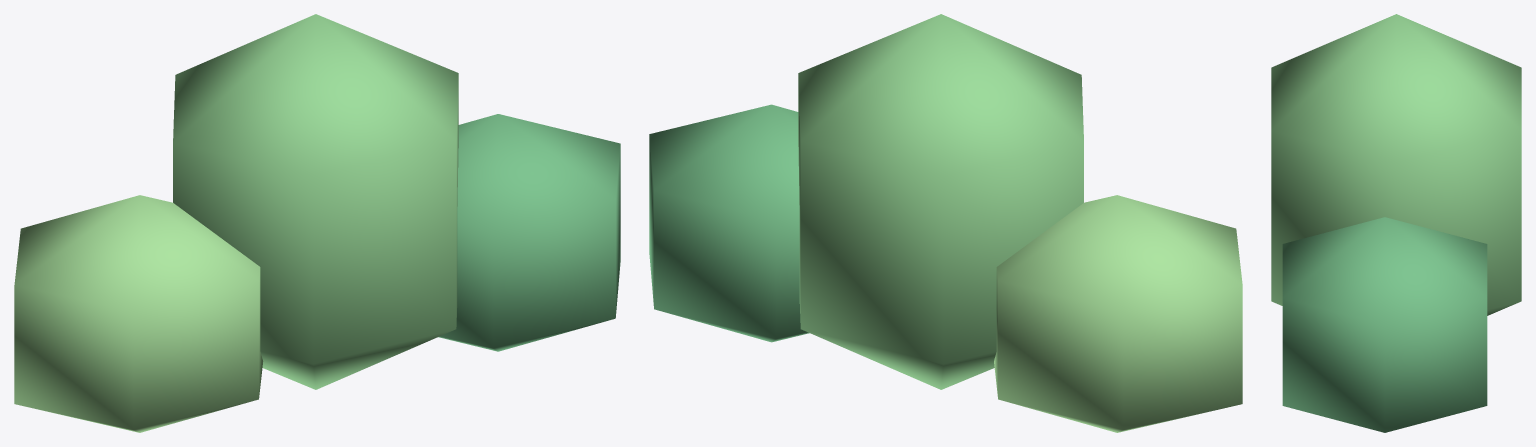
File: bush_mounded_summer_low.glb
3 renders of one model, left to right at view 1: azimuth 30°, elevation 25°; view 2: azimuth 150°, elevation 25°; view 3: azimuth 270°, elevation 25°, orthographic. The views are drawn at different scales.
Size of the model in its own units: 1.64 by 0.98 by 0.6525.
